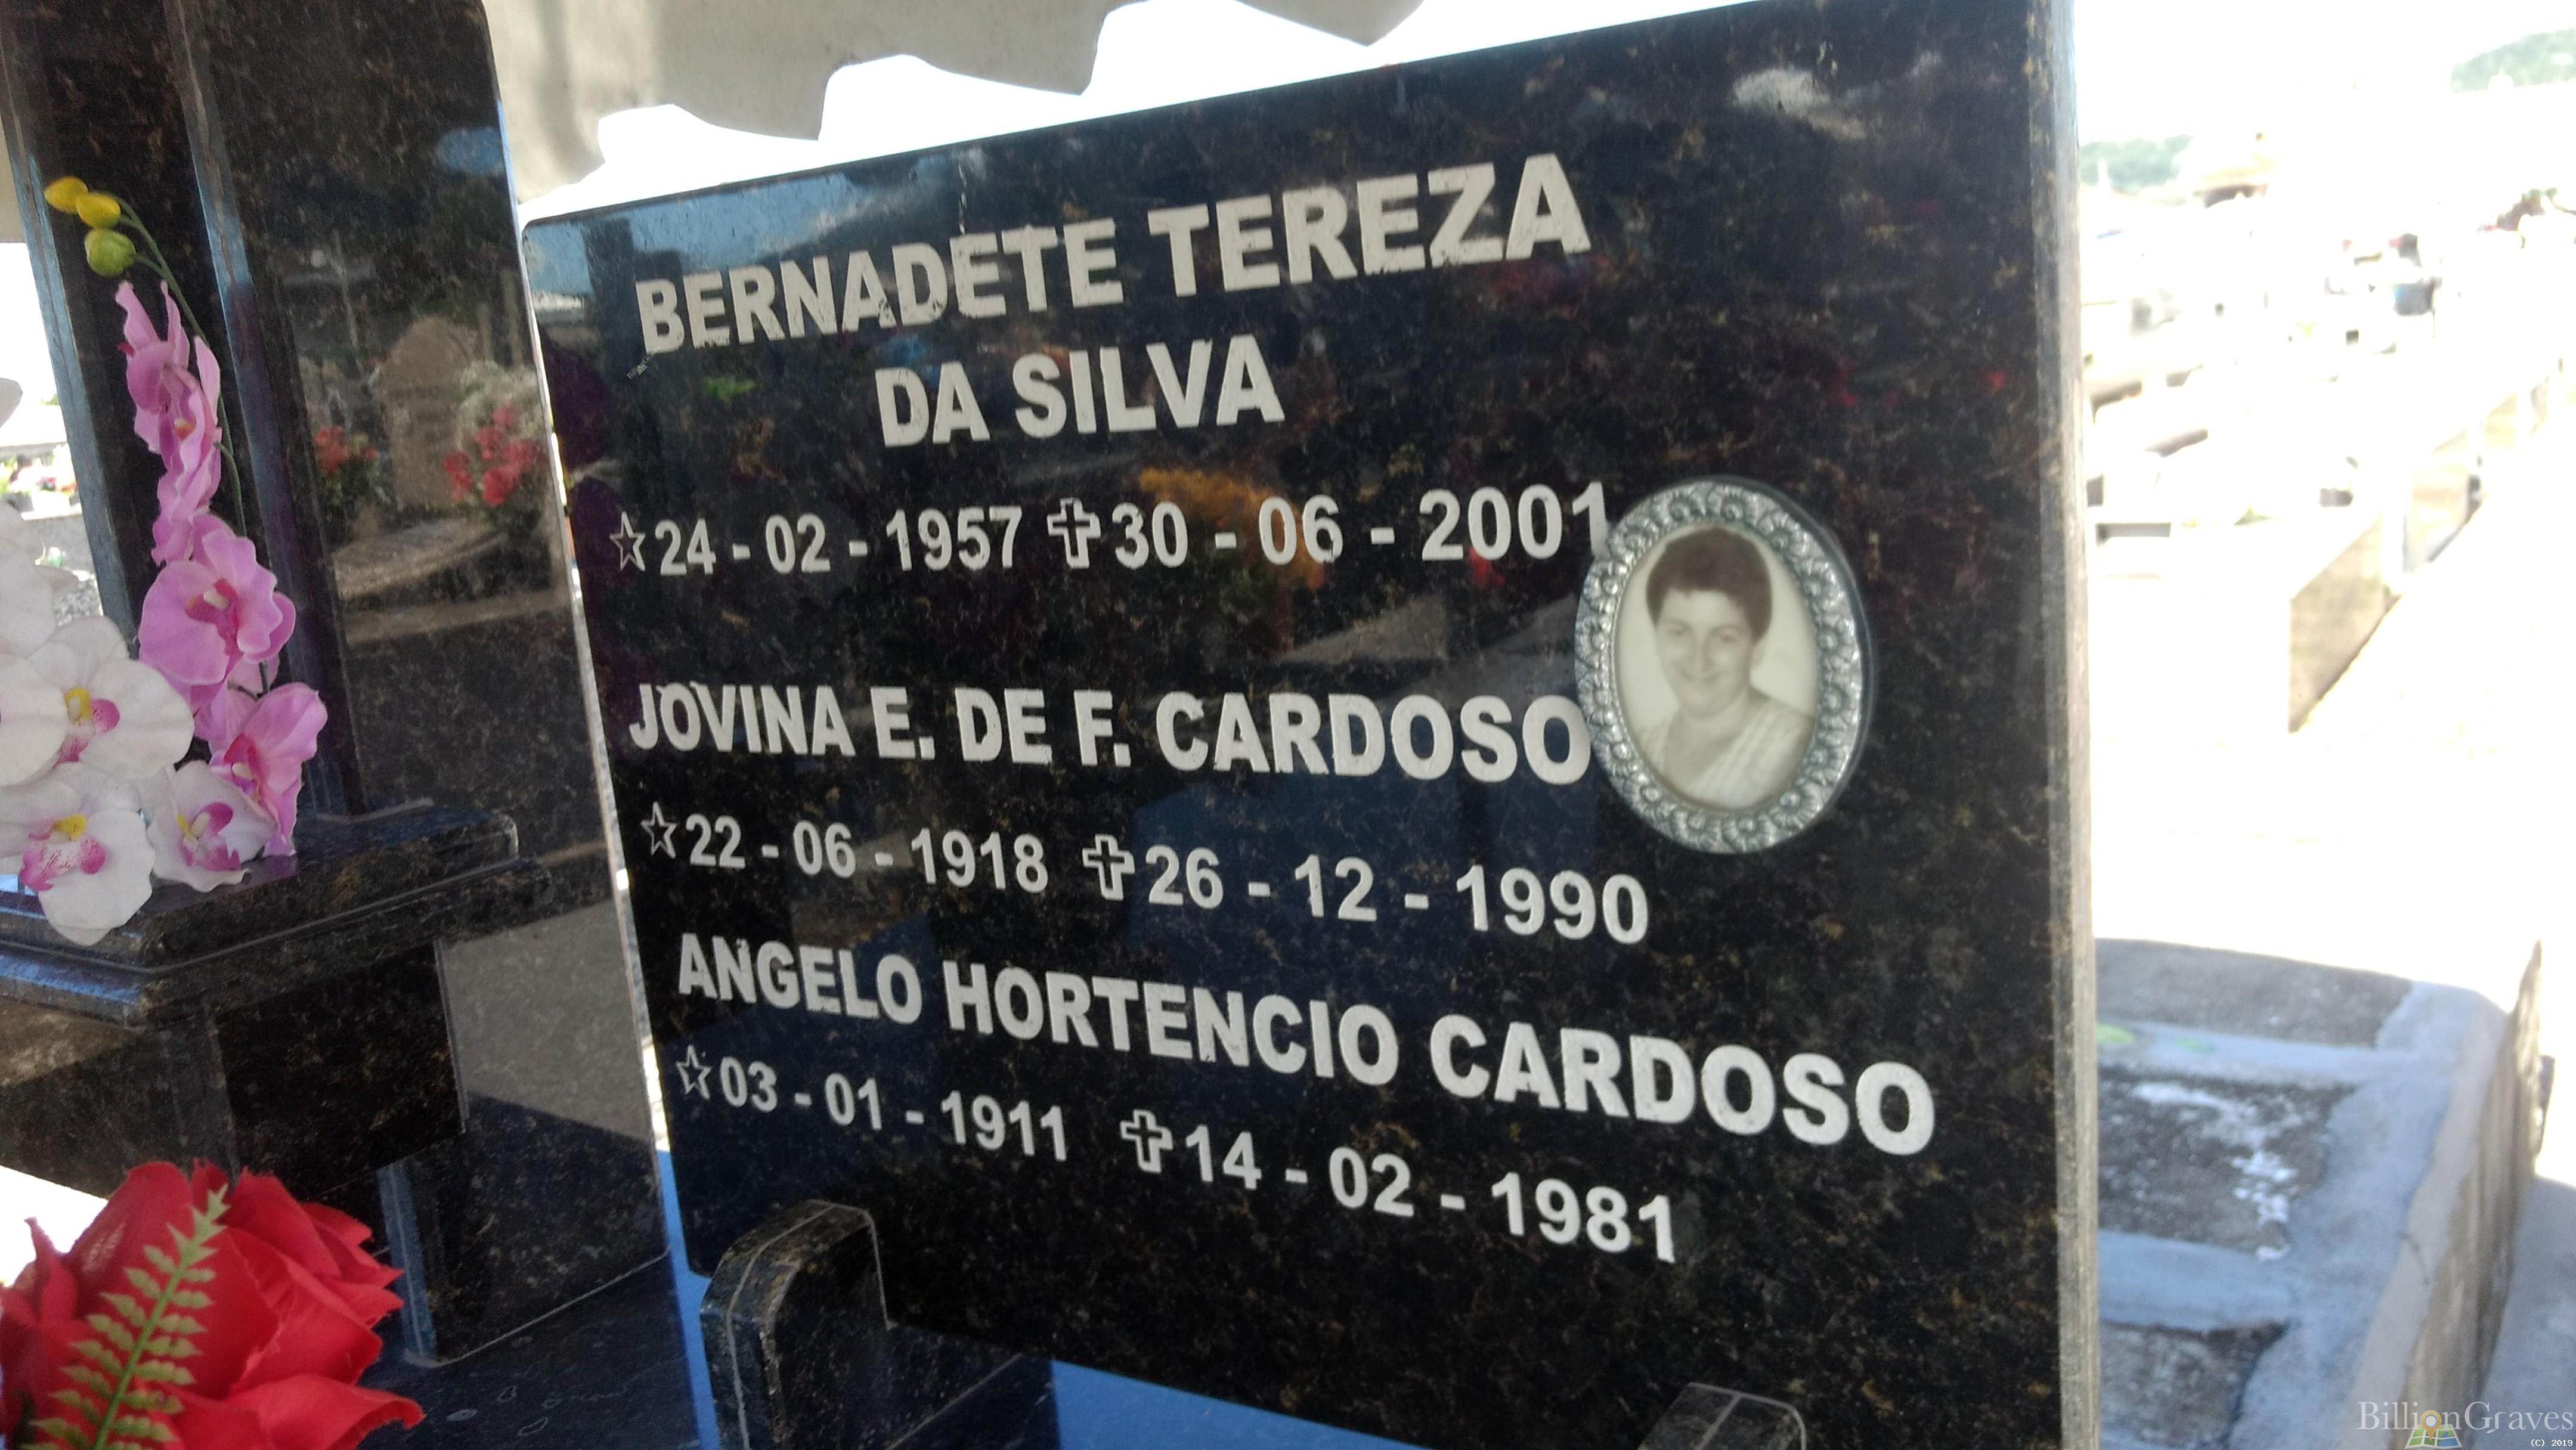upright: (520, 0, 2107, 1450)
